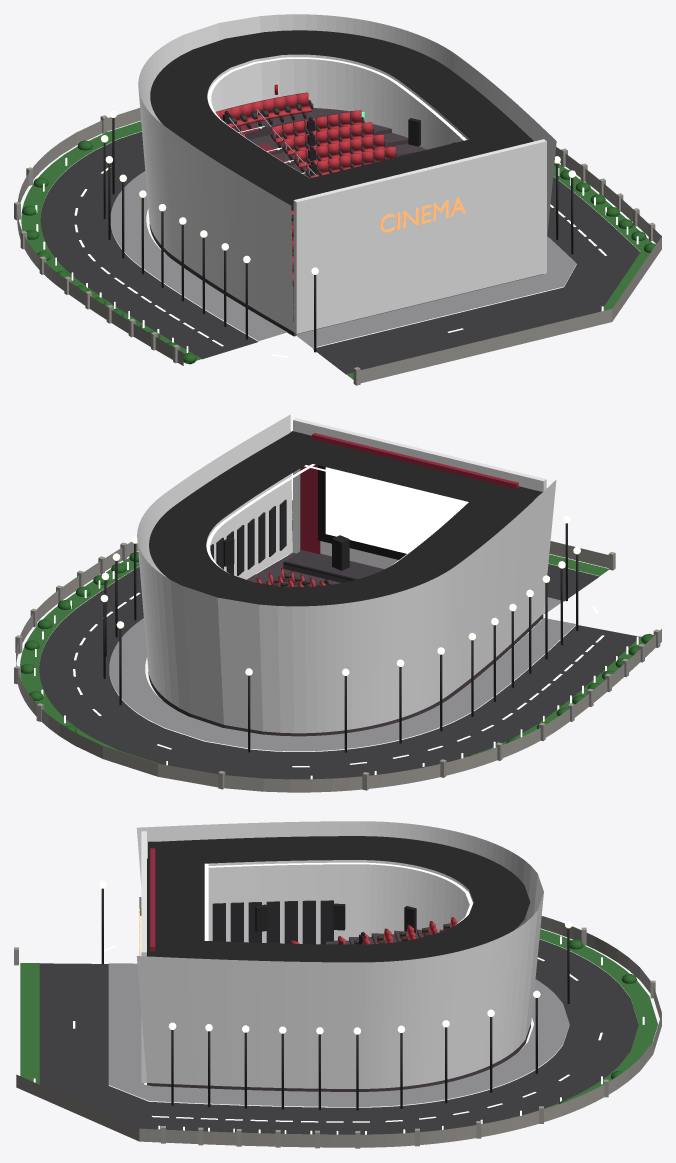
Rendered from 3d_theater.glb.
3 renders of one model, top to bottom at view 1: azimuth 30°, elevation 25°; view 2: azimuth 150°, elevation 25°; view 3: azimuth 270°, elevation 25°, orthographic.
Visible parts, largest first — view 1: Wall_Shell, Wall_Front, Road_Ring, Soffit_Ring, Pavement, Boundary_Wall, Garden_Grass, Soffit_Cove, Floor_Base, Floor_Tier_10, Sign_Cinema; view 2: Wall_Shell, Road_Ring, Soffit_Ring, Pavement, Boundary_Wall, Screen_Surface, Wall_Front, Garden_Grass, Floor_Base, Valance, Curtain_Right, Stage (+3 smaller); view 3: Wall_Shell, Road_Ring, Soffit_Ring, Pavement, Boundary_Wall, Garden_Grass, Floor_Base, Soffit_Cove, Wall_Front, Valance, Acoustic_Panel.017, Acoustic_Panel.019 (+4 smaller).
Part boxes in pixels (left/top/right/bottom): Wall_Shell: left=138, top=14, right=556, bottom=331; Wall_Front: left=293, top=139, right=546, bottom=333; Road_Ring: left=40, top=131, right=640, bottom=374; Soffit_Ring: left=150, top=30, right=533, bottom=210; Pavement: left=110, top=171, right=576, bottom=347; Boundary_Wall: left=17, top=108, right=661, bottom=383; Garden_Grass: left=21, top=121, right=652, bottom=379; Soffit_Cove: left=207, top=57, right=466, bottom=177; Floor_Base: left=149, top=224, right=542, bottom=336; Floor_Tier_10: left=244, top=108, right=350, bottom=139; Sign_Cinema: left=380, top=197, right=465, bottom=232; Wall_Shell: left=137, top=414, right=556, bottom=733; Road_Ring: left=39, top=520, right=639, bottom=779; Soffit_Ring: left=149, top=431, right=542, bottom=606; Pavement: left=109, top=542, right=575, bottom=751; Boundary_Wall: left=16, top=500, right=661, bottom=792; Screen_Surface: left=325, top=467, right=467, bottom=553; Wall_Front: left=293, top=418, right=546, bottom=612; Garden_Grass: left=20, top=513, right=645, bottom=763; Floor_Base: left=148, top=552, right=543, bottom=736; Valance: left=312, top=433, right=518, bottom=488; Curtain_Right: left=300, top=463, right=320, bottom=554; Stage: left=283, top=550, right=384, bottom=582; Wall_Shell: left=136, top=821, right=543, bottom=1088; Road_Ring: left=39, top=939, right=638, bottom=1134; Soffit_Ring: left=148, top=836, right=530, bottom=962; Pavement: left=108, top=963, right=569, bottom=1106; Boundary_Wall: left=16, top=897, right=661, bottom=1147; Garden_Grass: left=20, top=915, right=657, bottom=1113; Floor_Base: left=147, top=1025, right=530, bottom=1091; Soffit_Cove: left=204, top=862, right=472, bottom=940; Wall_Front: left=141, top=831, right=146, bottom=1082; Valance: left=150, top=848, right=155, bottom=951; Acoustic_Panel.017: left=302, top=900, right=315, bottom=944; Acoustic_Panel.019: left=320, top=900, right=333, bottom=944.
Size of what is drawn, in the model's own units: 30.26 by 7.83 by 33.73.
